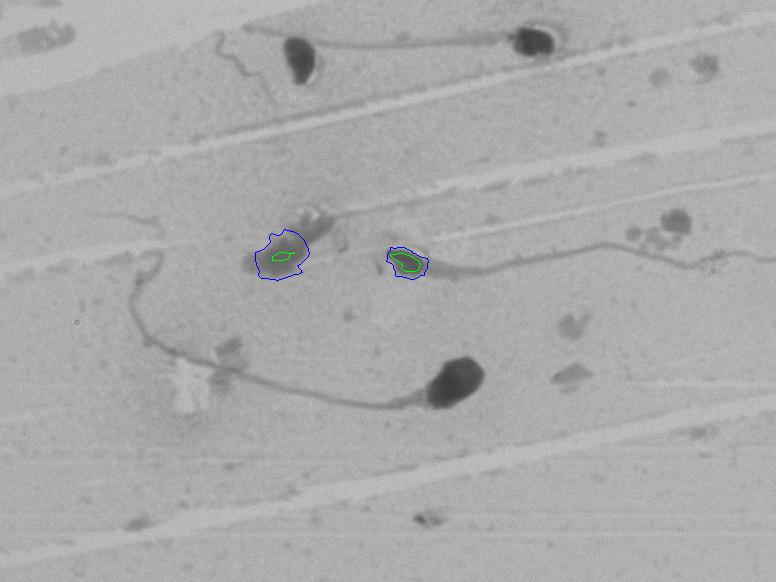Abnormal: (103, 301, 505, 469)
